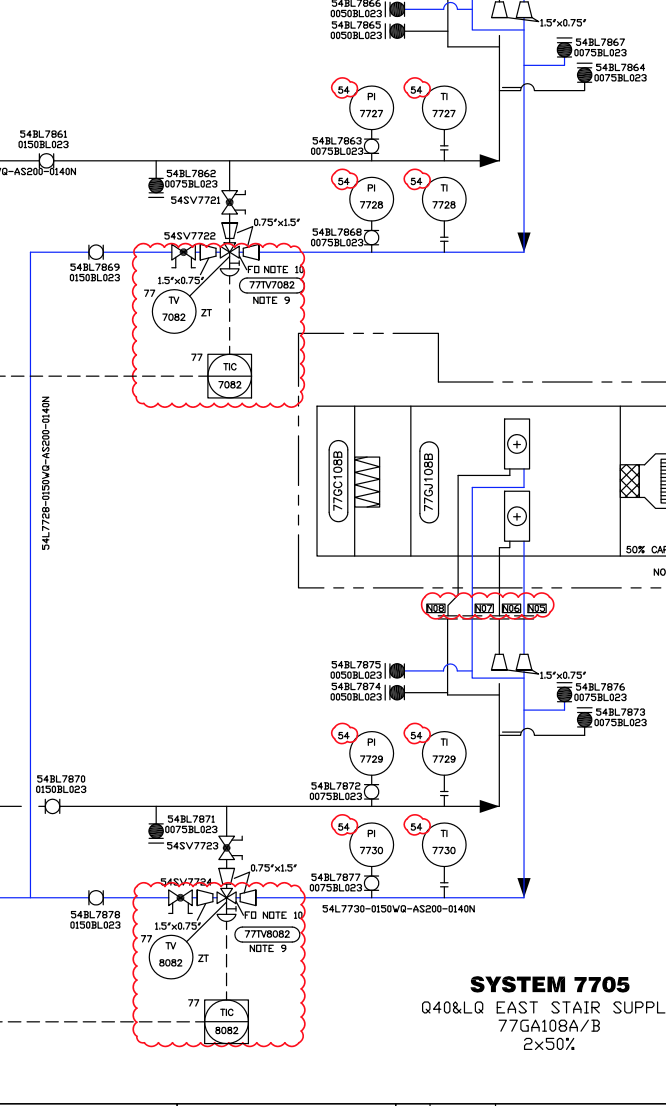Instrument: (328, 78, 395, 131), (408, 726, 470, 777), (406, 79, 468, 130), (409, 817, 468, 870), (336, 726, 395, 777), (140, 926, 194, 981), (140, 283, 197, 334), (409, 173, 467, 222), (337, 821, 396, 868), (339, 172, 392, 223)
Instrument-square: (184, 346, 256, 401), (186, 993, 252, 1045)
